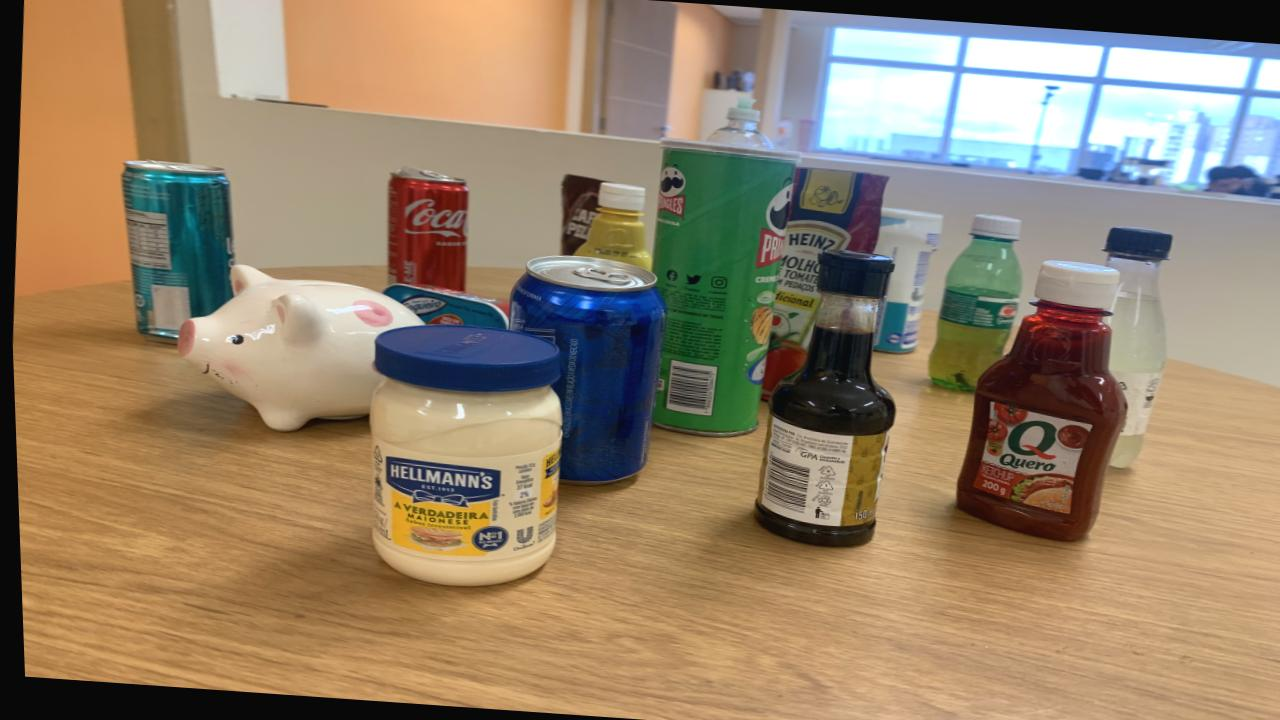Cleaner-Cleanup_Items: (870, 207, 940, 353)
Coffee-Pantry_Items: (559, 174, 600, 255)
Coke-Drinks: (384, 166, 467, 290)
English_Sauce-Pantry_Items: (750, 249, 892, 546)
Guarana-Drinks: (925, 214, 1020, 391)
Ketchup-Pantry_Items: (953, 260, 1123, 541)
Mayonnaise-Pantry_Items: (367, 324, 558, 586)
Mustard-Pantry_Items: (572, 182, 650, 270)
Pig_Safe-Miscellaneous: (175, 264, 419, 430)
Pringles-Snacks: (649, 138, 797, 436)
Soda-Drinks: (1103, 227, 1169, 468)
Tea-Drinks: (119, 160, 231, 341)
Tomato_Sauce-Pantry_Items: (759, 166, 886, 398)
Tonic-Drinks: (506, 255, 663, 484)
Tuna_Can-Pantry_Items: (380, 284, 507, 329)
